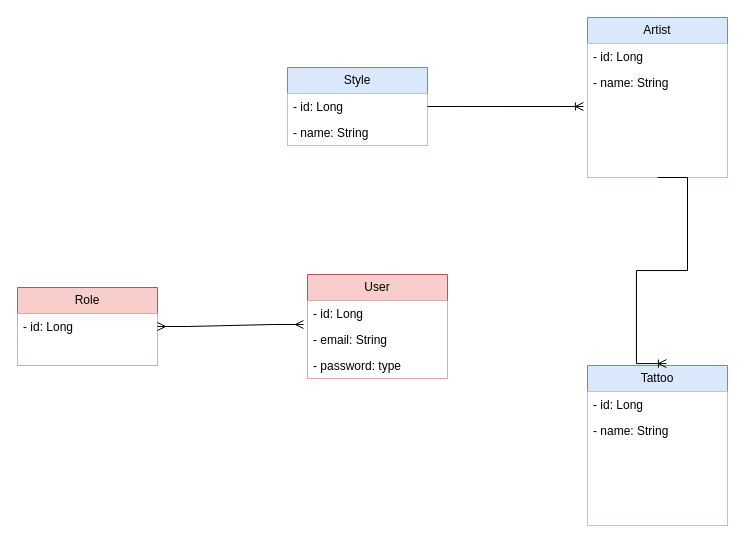
This 745x546 diagram has some shape labels left out. Here are the shapes that lost their labels. From the top down, the centre of each, then its label:
point (657, 136): - photoUrl: String - perfil: String -email: String
point (87, 352): - authority: String
point (657, 484): - description: String - artUrl: String -price: Double
